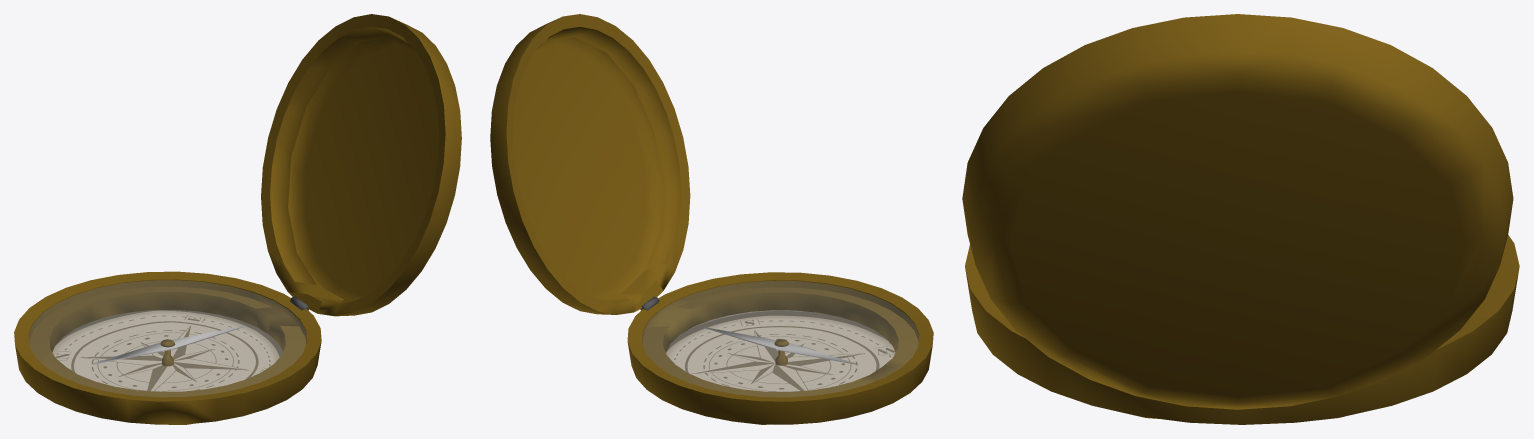
Rendered from compassMaxwell.glb.
3 views of the same model, side by side, from view 1: azimuth 30°, elevation 25°; view 2: azimuth 150°, elevation 25°; view 3: azimuth 270°, elevation 25° (orthographic). The views are drawn at different scales.
Parts seen in each view (by area): view 1: Lid, Compass, Glass, dial; view 2: Lid, Compass, Glass, dial; view 3: Lid, Compass.
Boxes of the visible parts, x1=… form: Lid: x1=261, y1=14, x2=461, y2=316; Compass: x1=14, y1=271, x2=321, y2=424; Glass: x1=29, y1=280, x2=306, y2=396; dial: x1=92, y1=326, x2=242, y2=364; Lid: x1=490, y1=14, x2=690, y2=314; Compass: x1=627, y1=272, x2=933, y2=424; Glass: x1=642, y1=281, x2=918, y2=396; dial: x1=704, y1=327, x2=855, y2=364; Lid: x1=962, y1=14, x2=1513, y2=409; Compass: x1=965, y1=235, x2=1519, y2=424.
Bounding box in the file's own units: 8.93 × 6.38 × 6.18.
4 materials, 1 textured.
